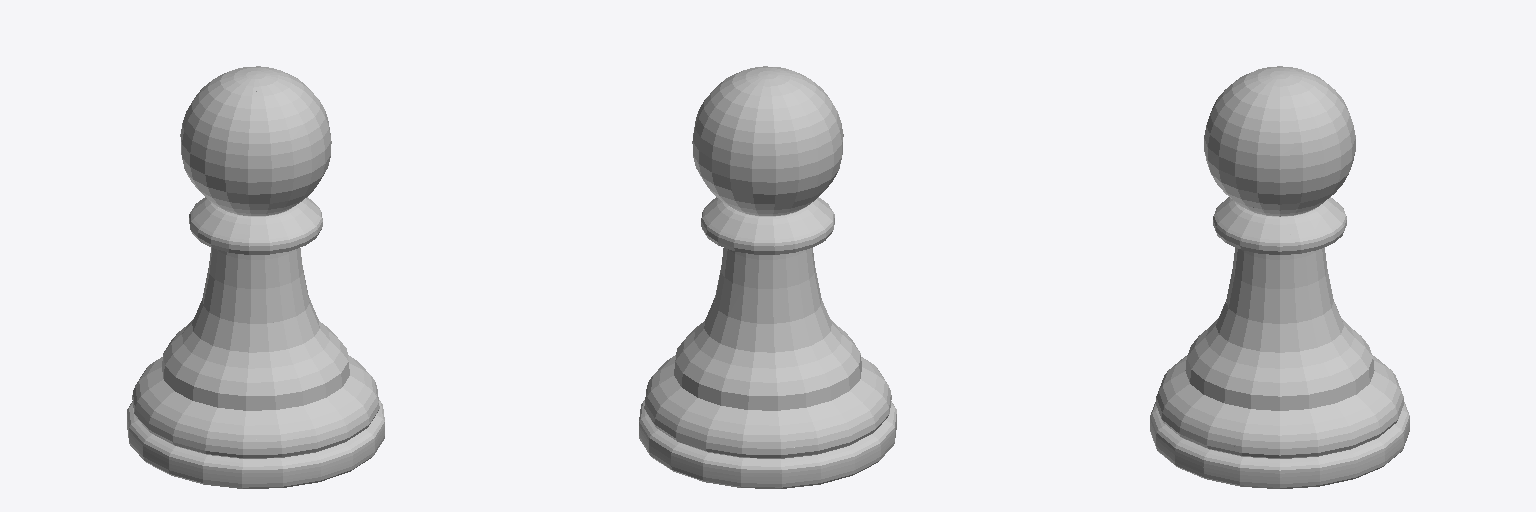
File: pawn_w_2.obj
3 views of the same model, side by side, from view 1: azimuth 30°, elevation 25°; view 2: azimuth 150°, elevation 25°; view 3: azimuth 270°, elevation 25° (orthographic).
Visible parts, largest first — view 1: pawn_w_2; view 2: pawn_w_2; view 3: pawn_w_2.
Part boxes in pixels (x1,y1,x2,y2): pawn_w_2: (127,66,384,488); pawn_w_2: (639,66,896,488); pawn_w_2: (1150,66,1409,488).
Bounding box in the file's own units: 2.73 × 4.2 × 2.73.